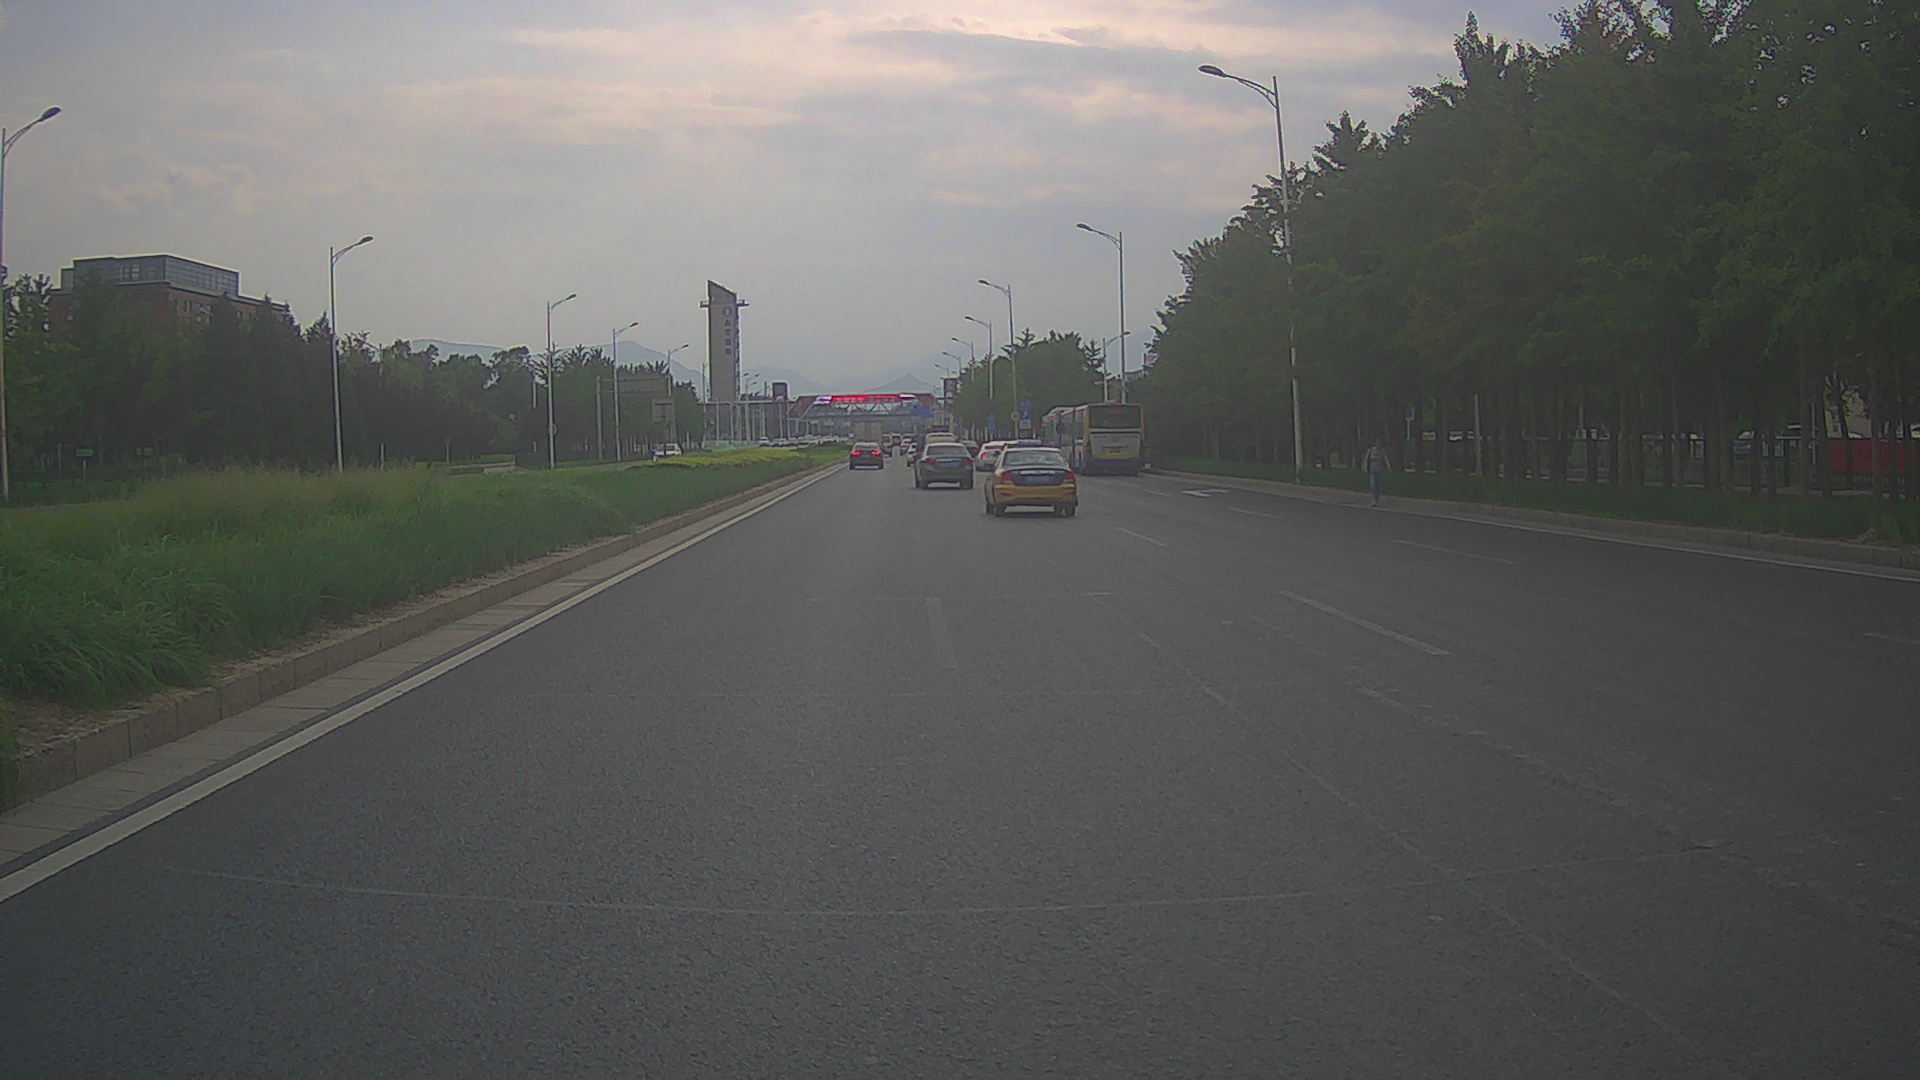bus: (1056, 400, 1145, 476), (1038, 405, 1085, 469)
car: (983, 445, 1079, 517), (911, 440, 975, 490), (975, 441, 1013, 470), (848, 440, 885, 470), (649, 442, 682, 464)
ignore: (1557, 428, 1909, 457), (885, 425, 975, 455), (759, 434, 846, 444)
pedestrian: (1362, 436, 1394, 507)
